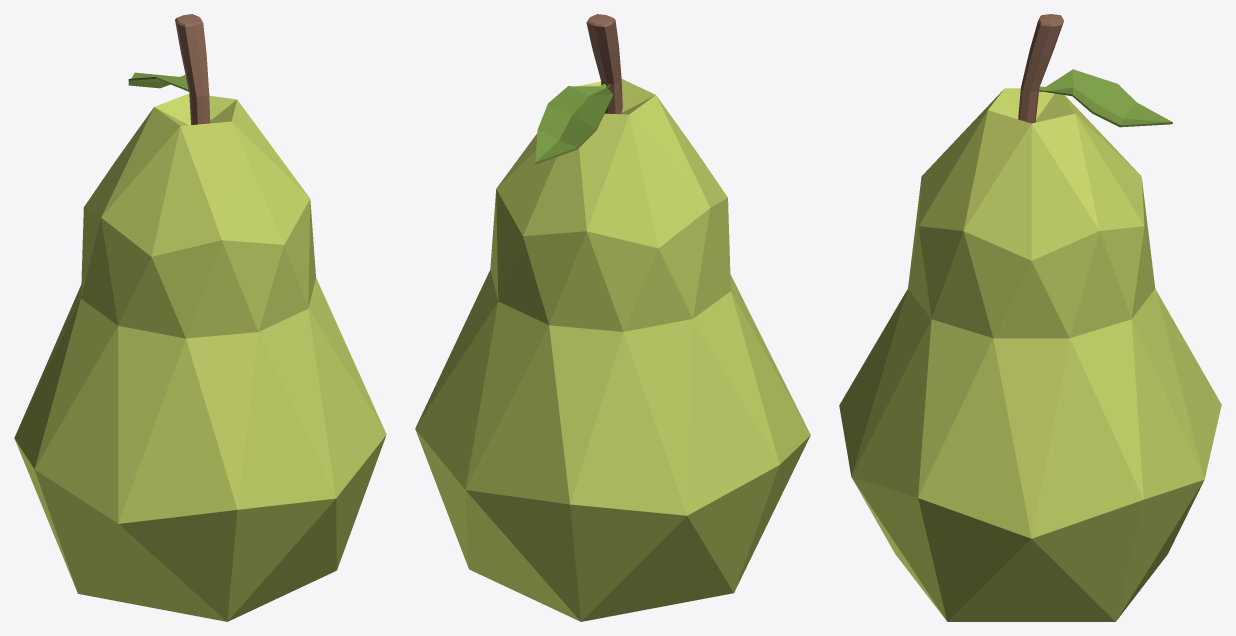
The model's file is Pear_01.fbx.
The picture shows the model from 3 angles, left to right: view 1: azimuth 30°, elevation 25°; view 2: azimuth 150°, elevation 25°; view 3: azimuth 270°, elevation 25°; orthographic projection. The views are drawn at different scales.
Visible parts, largest first — view 1: Pear_01; view 2: Pear_01; view 3: Pear_01.
Boxes of the visible parts, bbox=[...] form: Pear_01: bbox=[14, 14, 386, 621]; Pear_01: bbox=[415, 14, 810, 621]; Pear_01: bbox=[839, 14, 1221, 621].
Bounding box in the file's own units: 7.56 × 12.35 × 7.26.
